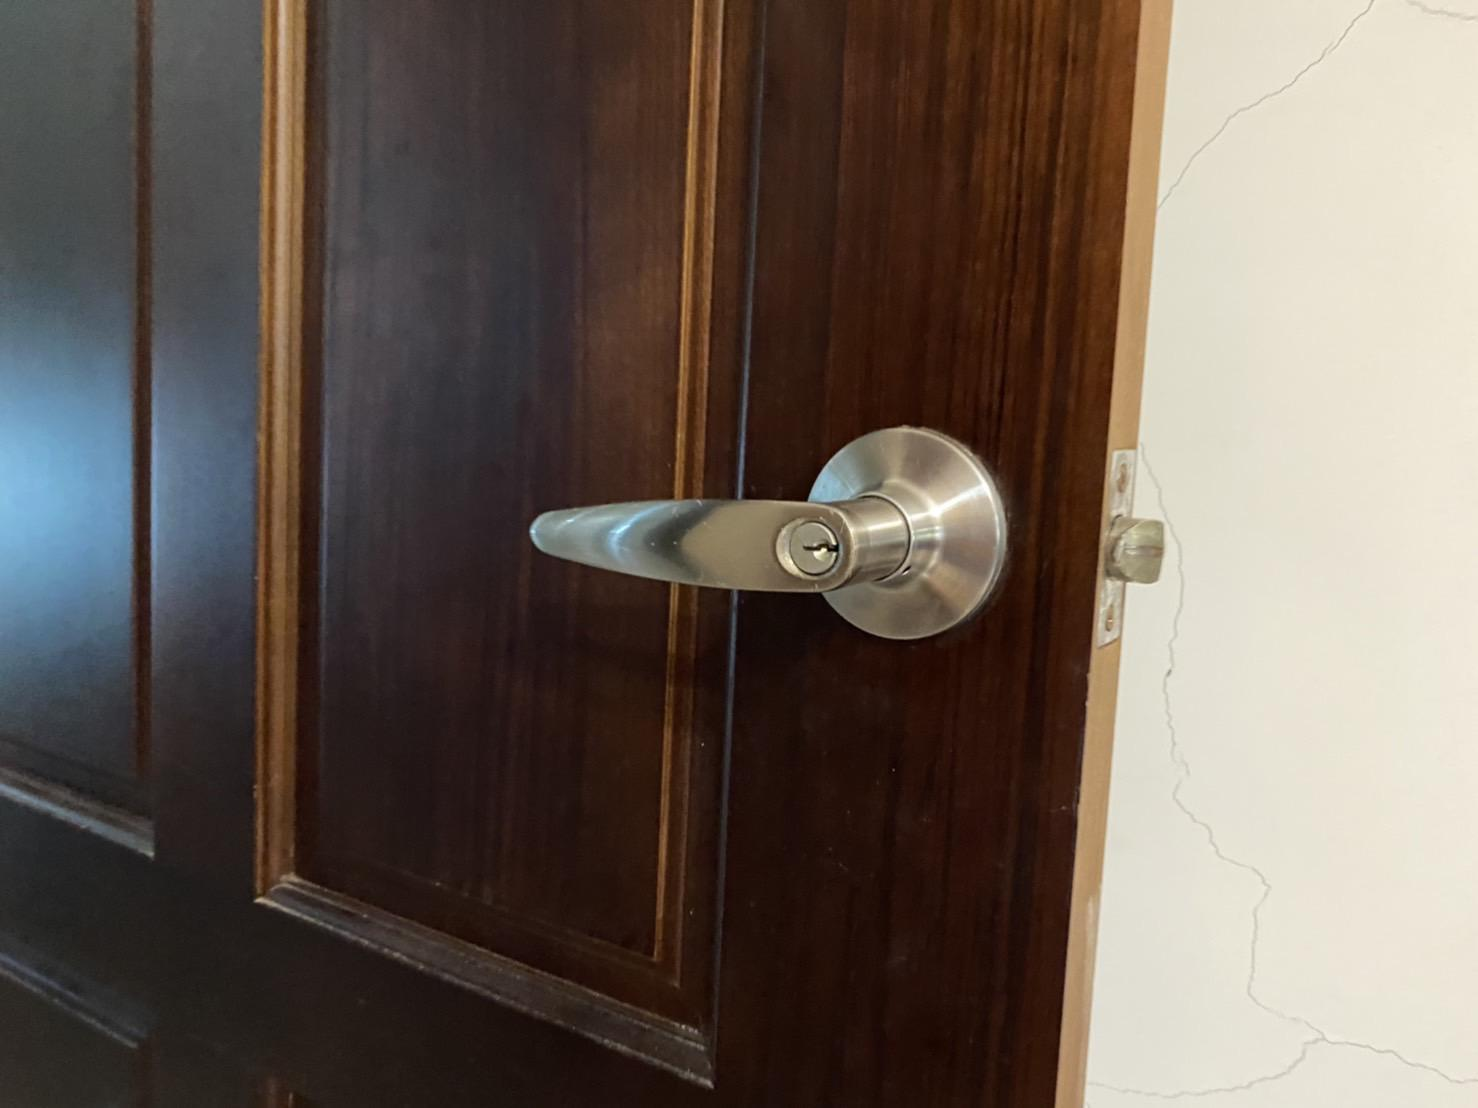doorhandle: (500, 372, 1067, 682)
